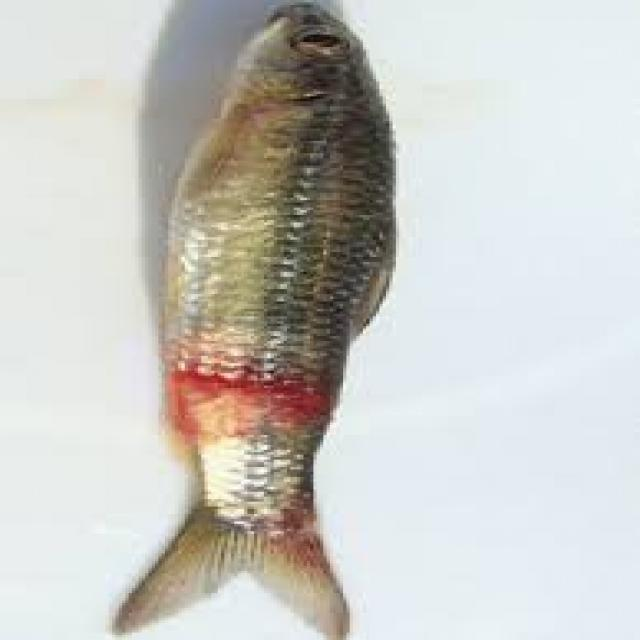EUS Disease: (105, 0, 409, 634), (113, 317, 404, 640)
